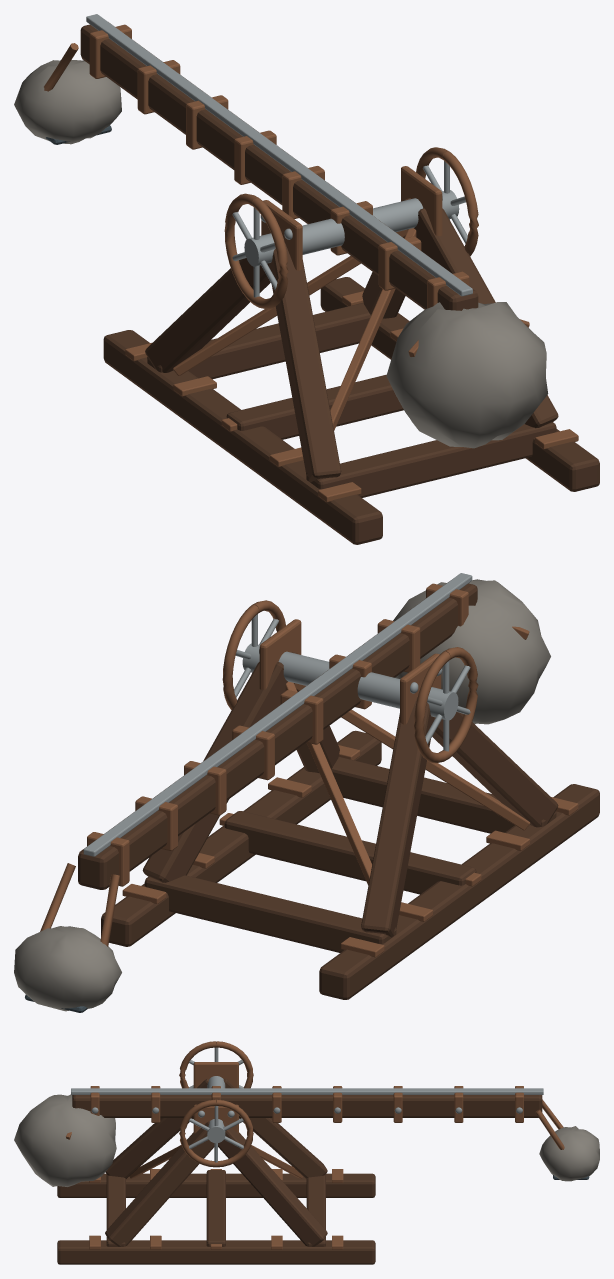
The model's file is siege-002.glb.
3 views of the same model, one above another, from view 1: azimuth 30°, elevation 25°; view 2: azimuth 150°, elevation 25°; view 3: azimuth 270°, elevation 25° (orthographic). The views are drawn at different scales.
Visible parts, largest first — view 1: siege_base, siege_arm_hinge; view 2: siege_base, siege_arm_hinge; view 3: siege_base, siege_arm_hinge.
Boxes of the visible parts, <box> form: siege_base: <box>103,147,599,544</box>; siege_arm_hinge: <box>14,14,548,448</box>; siege_base: <box>101,600,599,999</box>; siege_arm_hinge: <box>14,573,550,1012</box>; siege_base: <box>57,1041,375,1264</box>; siege_arm_hinge: <box>14,1086,599,1186</box>.
Size of the model in its own units: 6.04 by 5.73 by 19.33.
